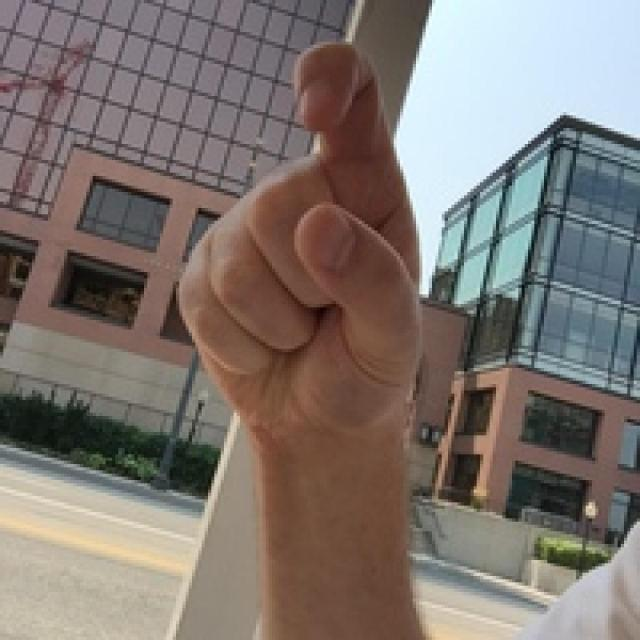X: (147, 4, 483, 482)
